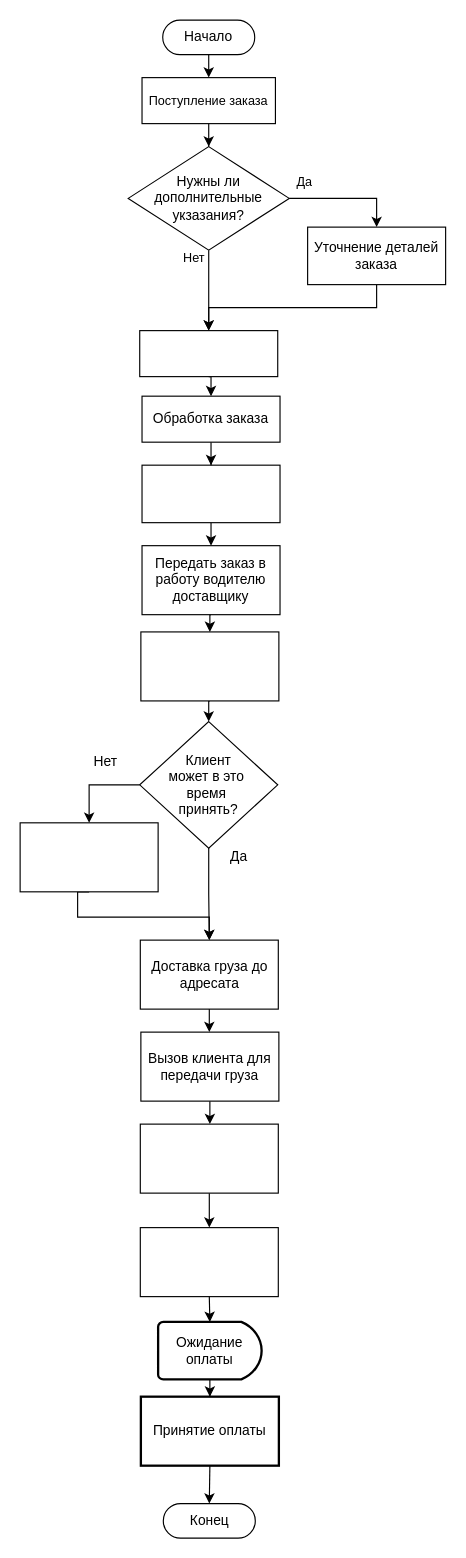
Image size: 466x1558. Some labels were removed from this diagram. The shapes that lost their labels are listed below. From the top down, each one's centre as x and y in pixels, then its label:
point 208,353: Принятие заказа
point 210,493: Рассчитать стоимость доставки и уведомить клиента
point 209,666: Сообщить клиенту время доставки
point 88,857: Договориться о новом времени доставки
point 208,1158: Передача груза
point 208,1261: Выставление счета за доставку
